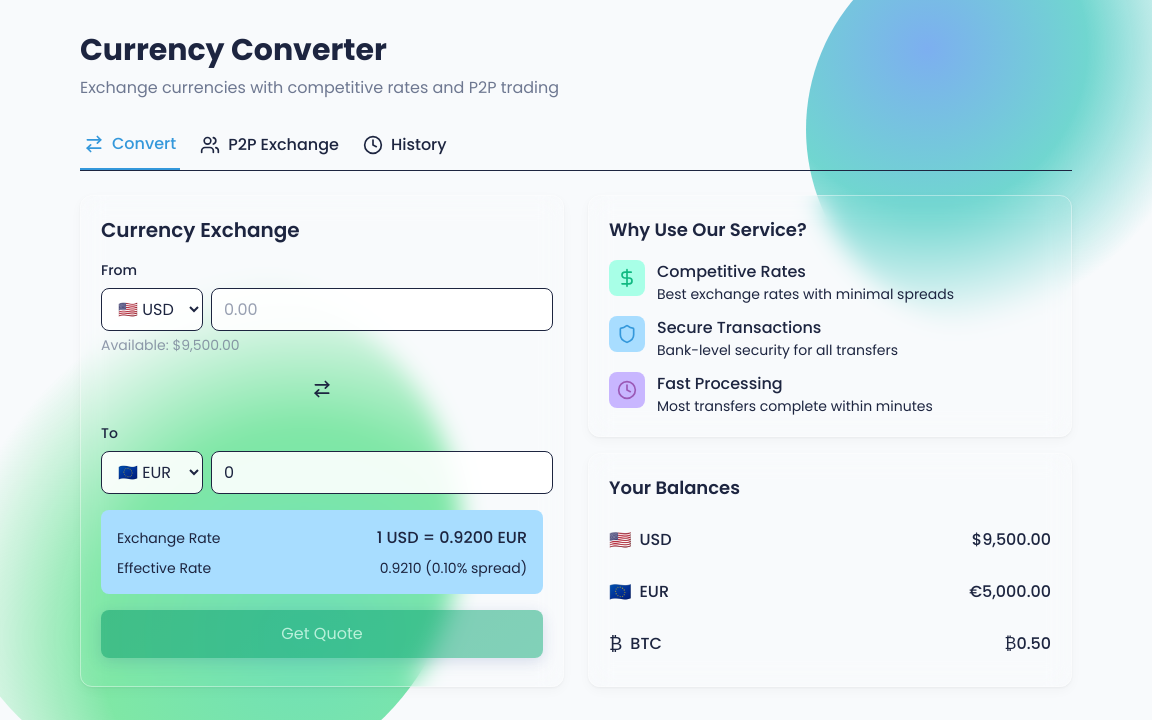
Test: CurrencyConverterPage › P2P tab displays offers correctly
The width and height of the screenshot is (1152, 720).
# Navigate to P2P tab
Step 1. Click the button "P2P Exchange" → (270, 151), box 196,132 -> 343,170
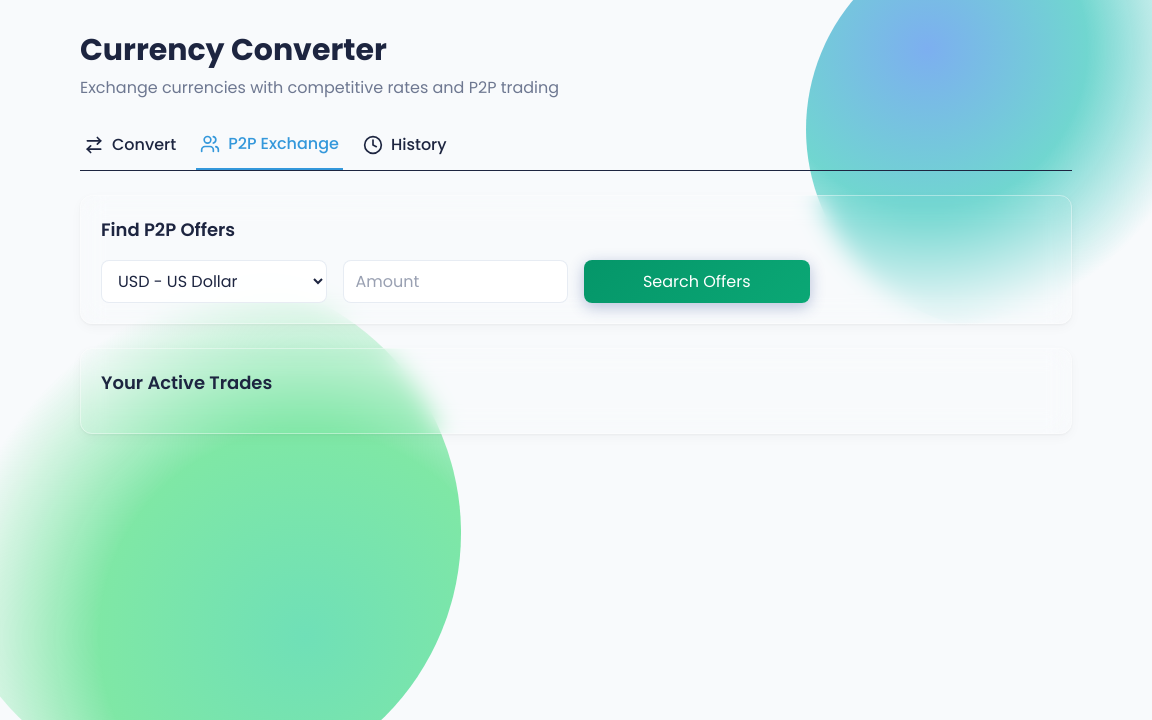
Result: the heading "Find P2P Offers" is shown at 101,217 -> 235,242
# Search for offers
Step 2. Type "500" into the number field with placeholder "Amount" → (455, 282), box 342,260 -> 568,303
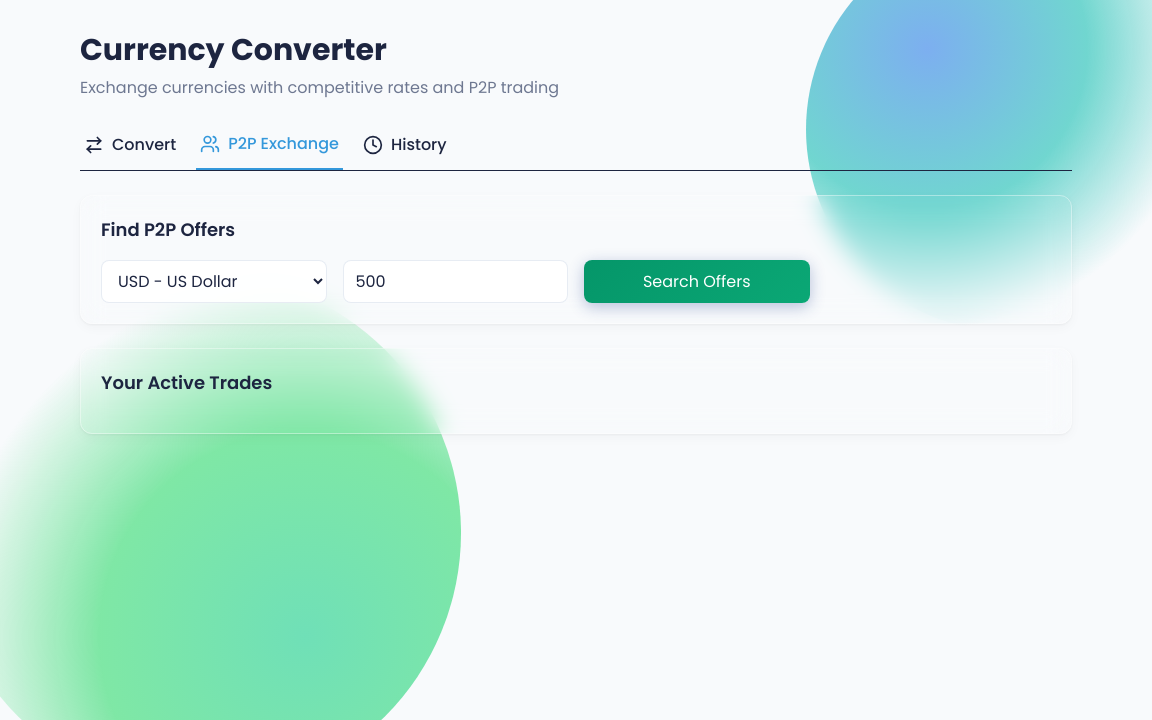
Step 3. Click the button "Search Offers" → (697, 282), box 584,260 -> 810,303
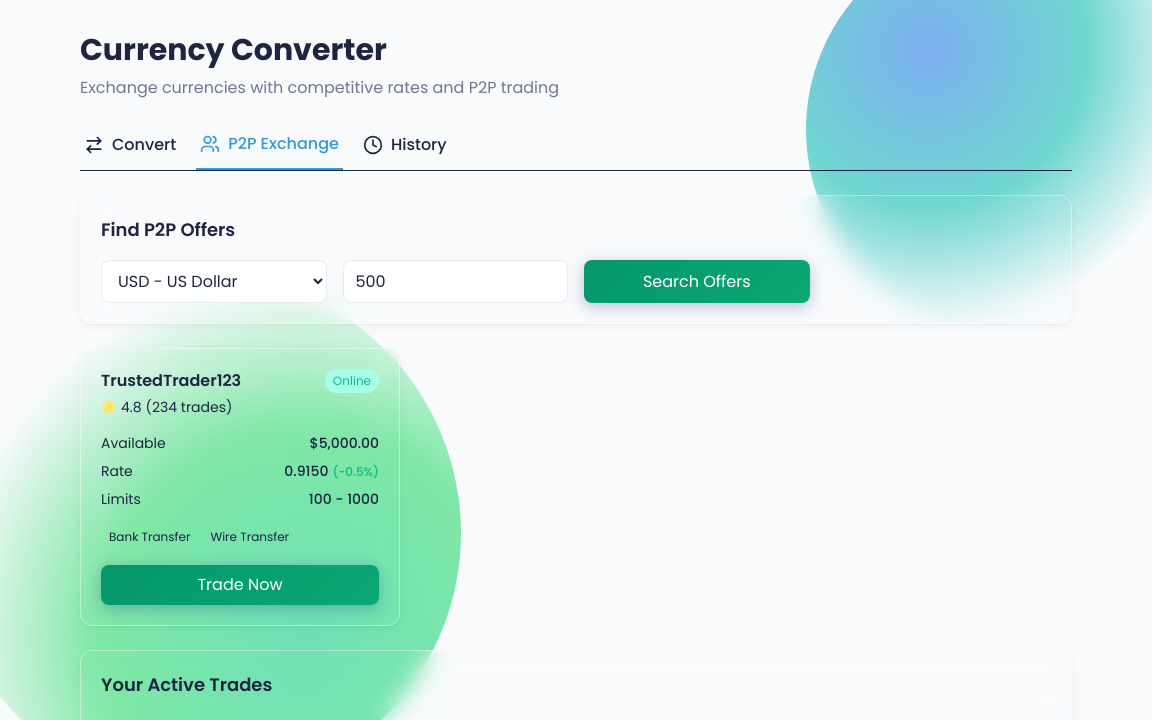
Result: the text "TrustedTrader123" is shown at 101,369 -> 241,393
Result: the text "4.8" is shown at 121,397 -> 142,417
Result: the text "(234 trades)" is shown at 146,397 -> 232,417
